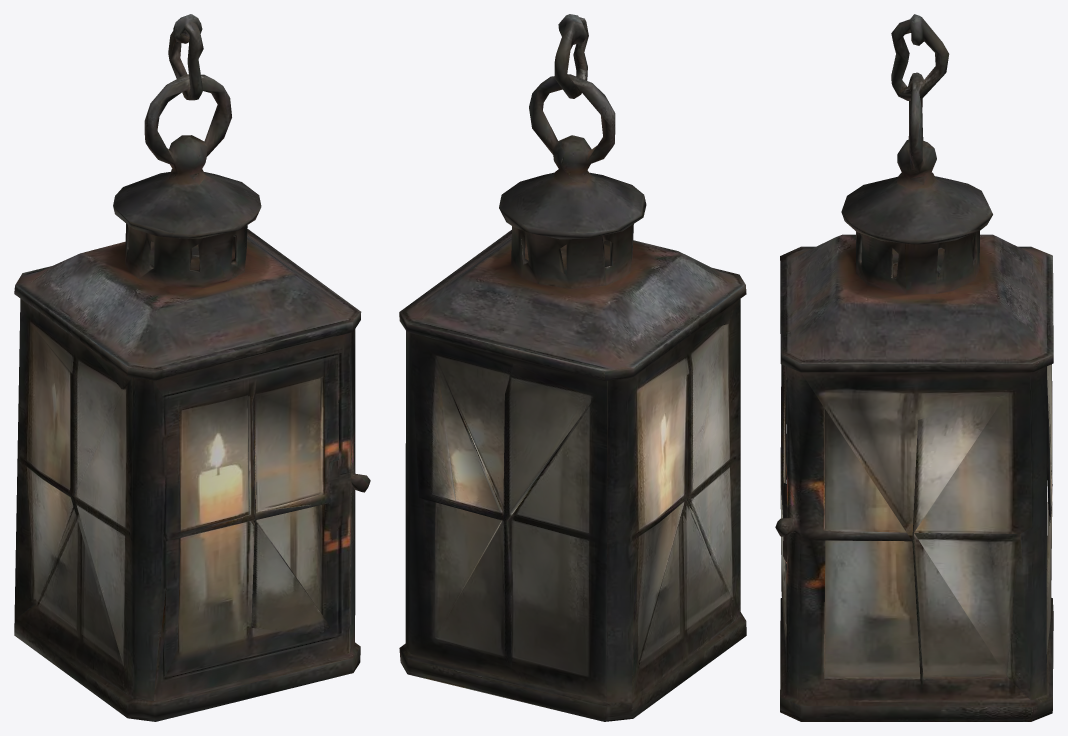
File: lantern.glb
The picture shows the model from 3 angles, left to right: view 1: azimuth 30°, elevation 25°; view 2: azimuth 150°, elevation 25°; view 3: azimuth 270°, elevation 25°; orthographic projection. The views are drawn at different scales.
Parts seen in each view (by area): view 1: Mesh_0; view 2: Mesh_0; view 3: Mesh_0.
Part boxes in pixels (x1,y1,x2,y2): Mesh_0: (14,14,370,721); Mesh_0: (399,14,746,721); Mesh_0: (775,14,1053,721).
Size of the model in its own units: 0.7317 by 1.9 by 0.7376.
1 material, 1 textured.
